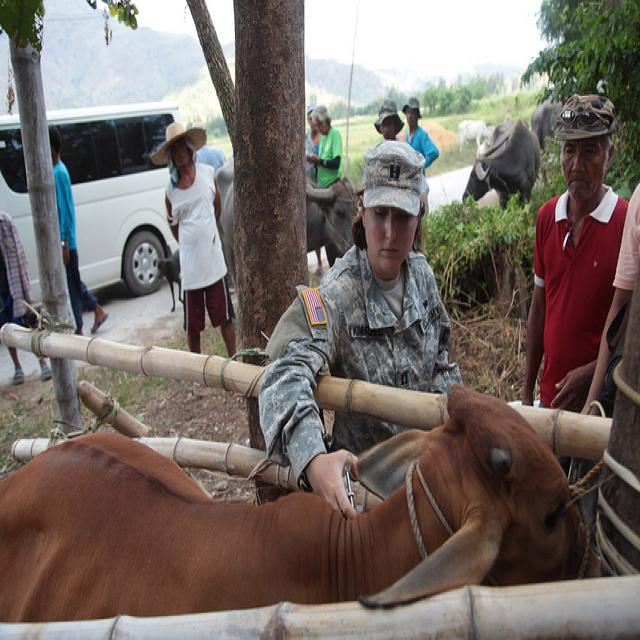Vehicle: (0, 102, 180, 316)
